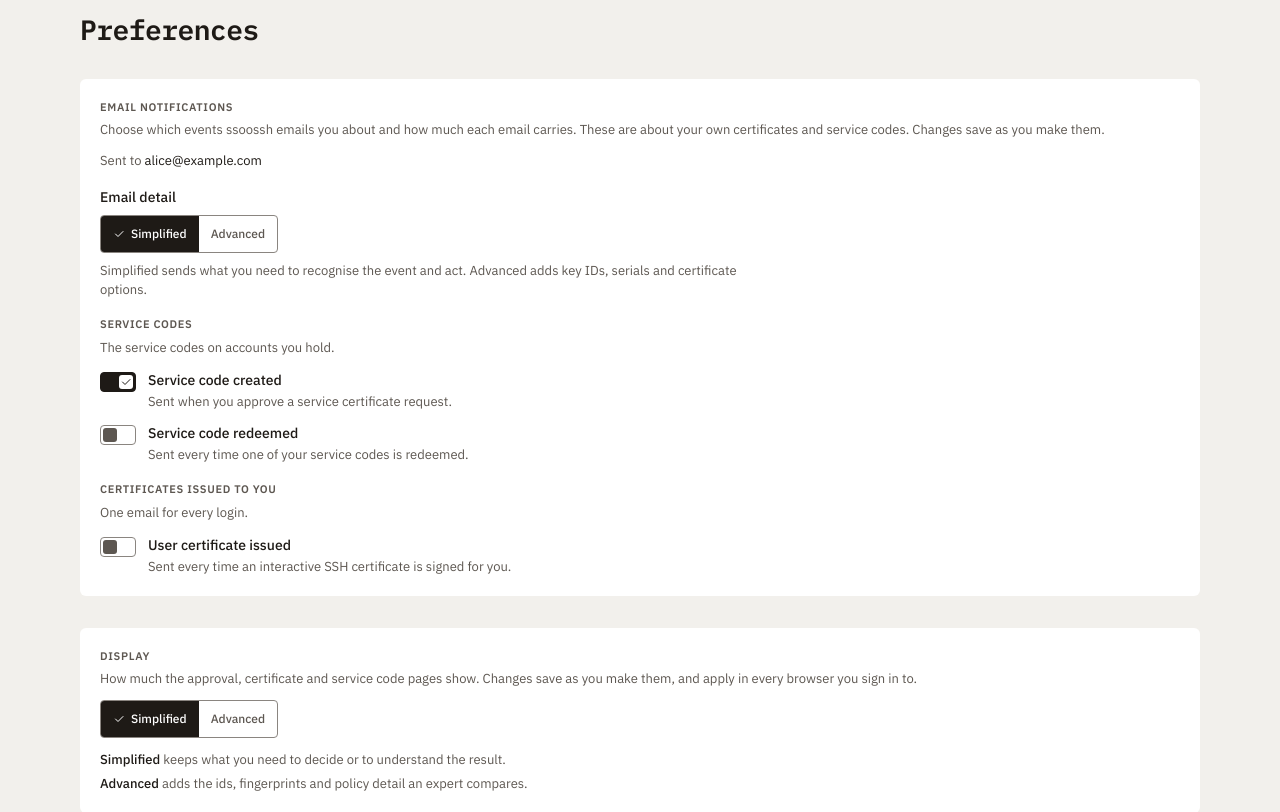
Test: the email detail level › should say so when the save fails
The width and height of the screenshot is (1280, 812).
Step 1. Click the button with test id "email-detail-toggle-advanced" → (238, 234), box top-left (199, 216), bottom-right (277, 252)
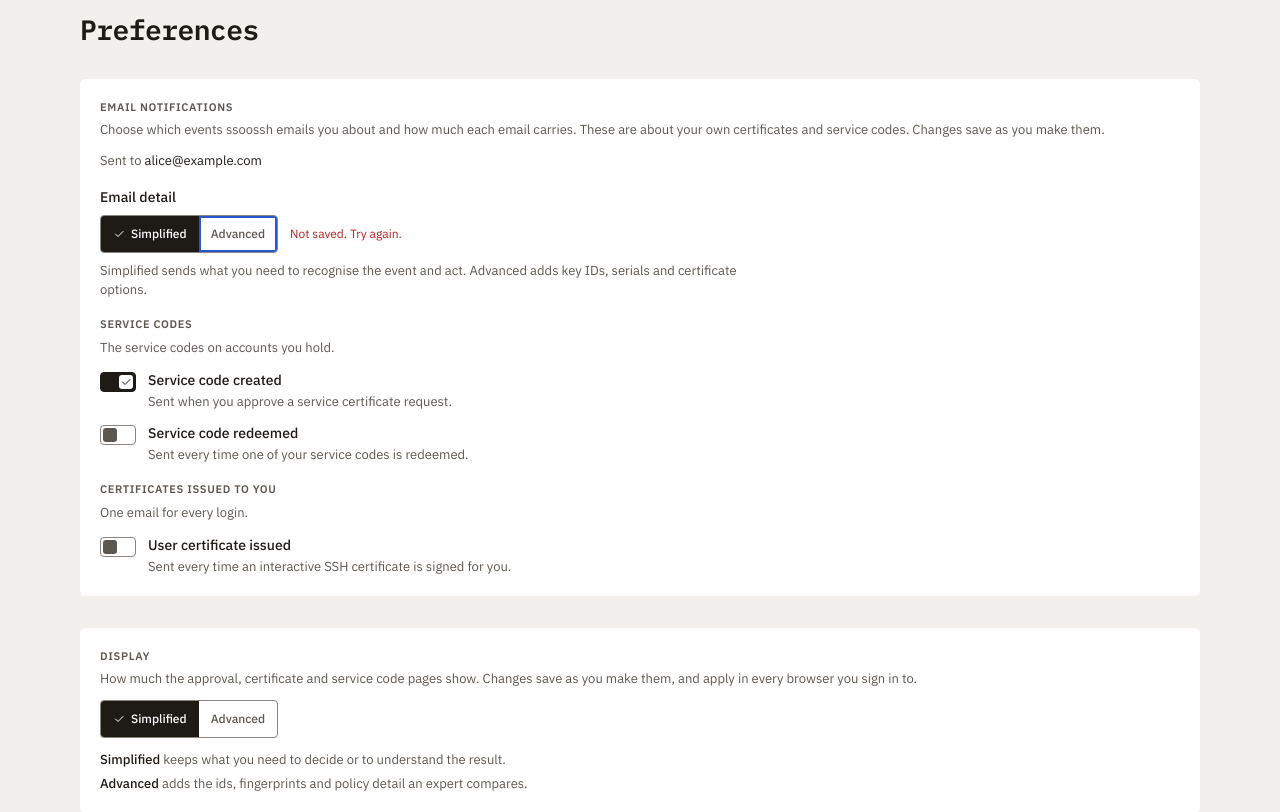
Check: the message with test id "email-detail-error" shows "Not saved", box top-left (290, 226), bottom-right (402, 240)
